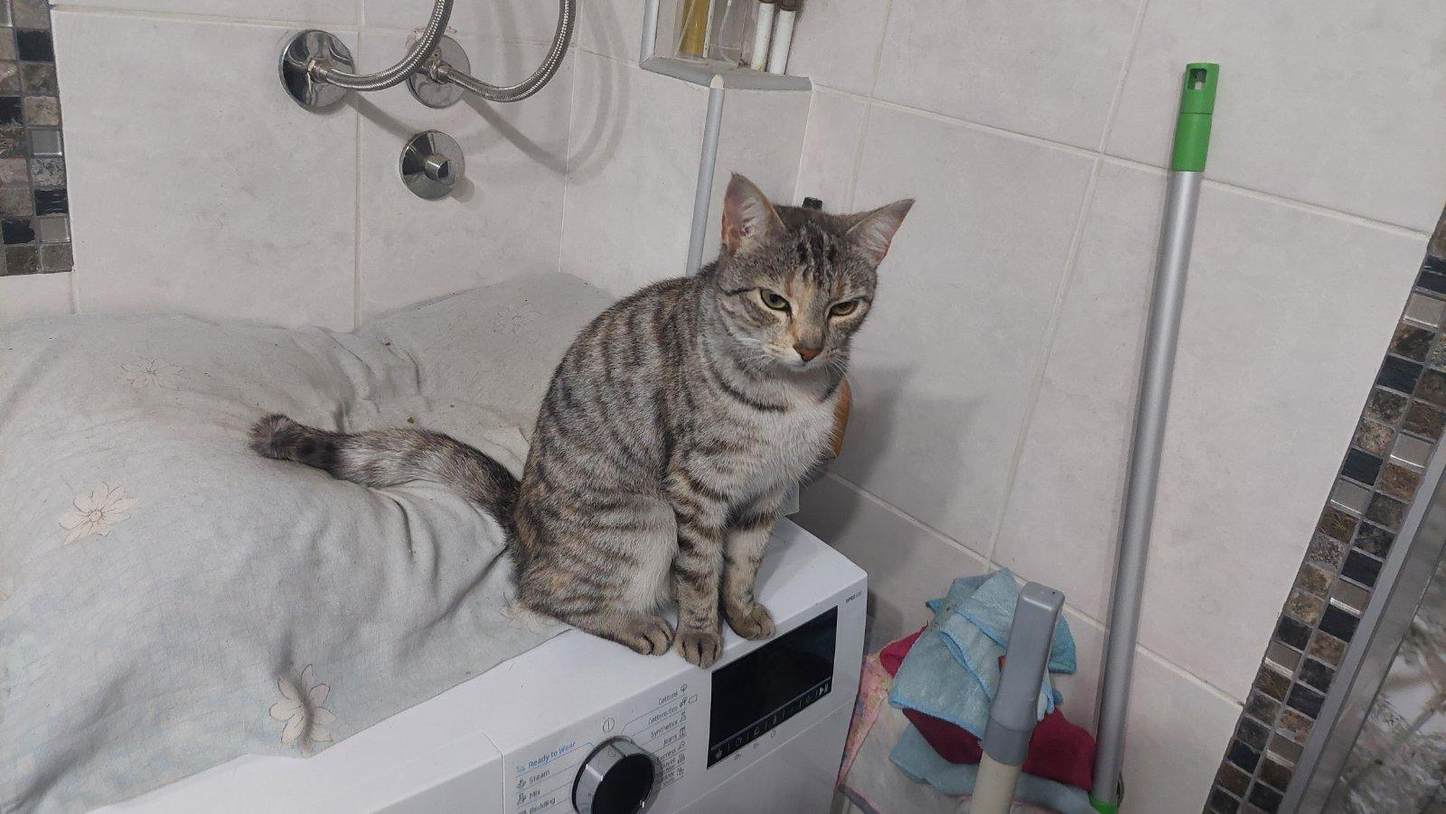macka: (250, 171, 916, 667)
